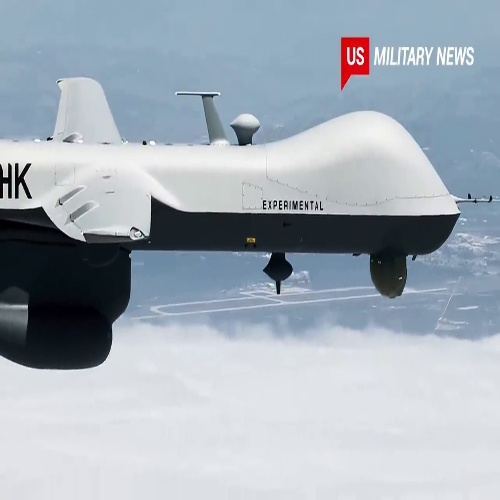uav: (2, 75, 498, 370)
